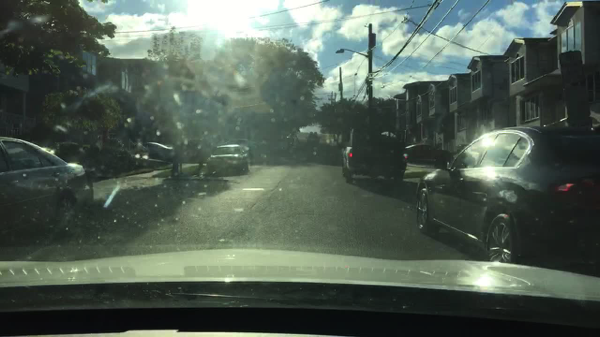car: (415, 125, 598, 264), (0, 135, 92, 231), (341, 126, 407, 184), (205, 144, 250, 175), (143, 142, 173, 160)
truck: (404, 144, 448, 164)
